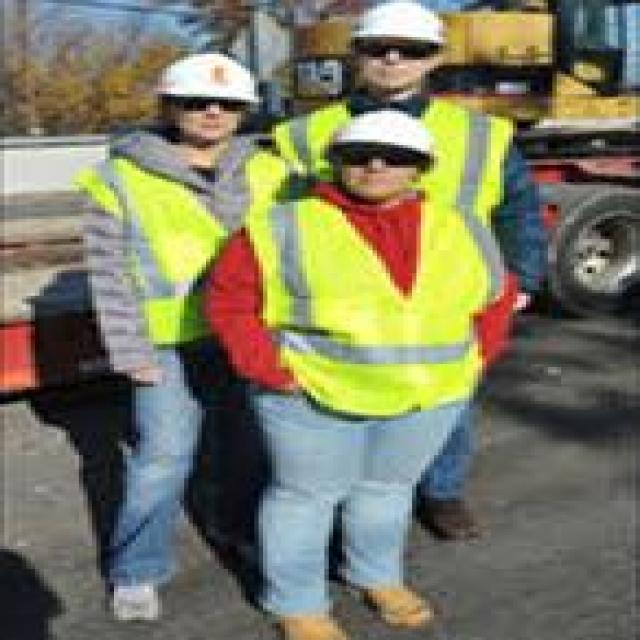Reflective-Jacket: (241, 188, 504, 424), (57, 136, 281, 358)
Safety-Helmet: (140, 45, 268, 111), (320, 106, 443, 160), (337, 0, 456, 51)
